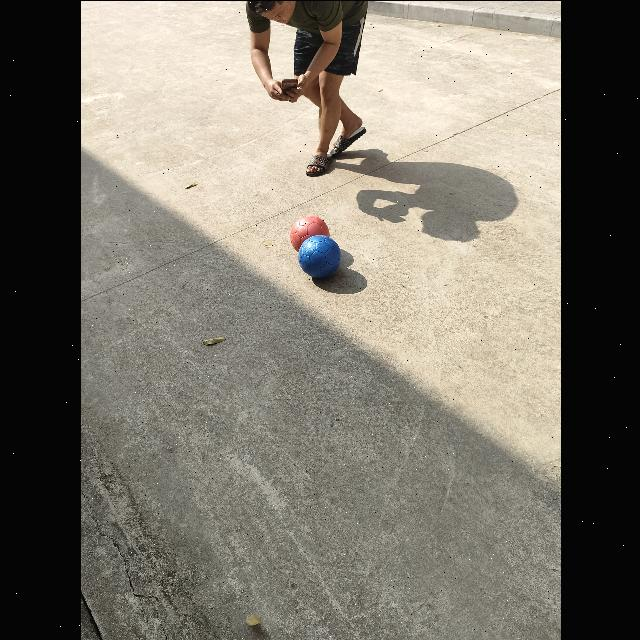B: (297, 234, 341, 277)
R: (288, 215, 329, 252)
